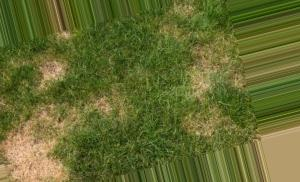patch: (18, 142, 49, 174), (194, 121, 221, 131), (192, 73, 204, 88), (46, 65, 59, 77), (97, 101, 112, 111)
